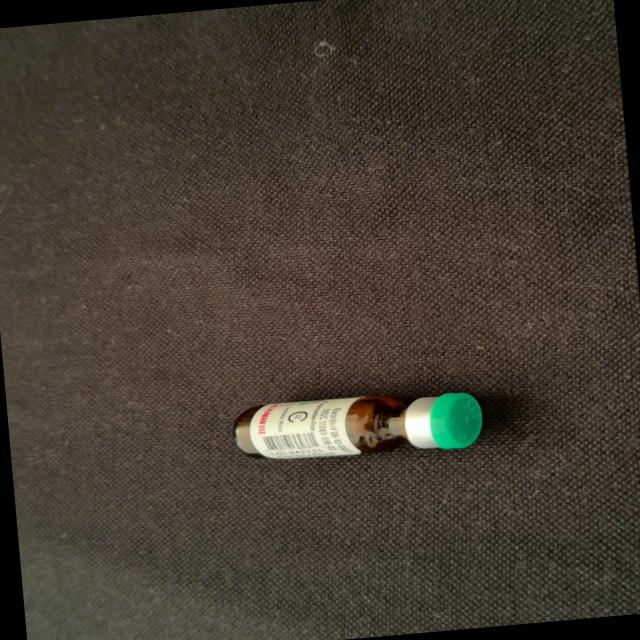midazolm: (234, 384, 482, 465)
